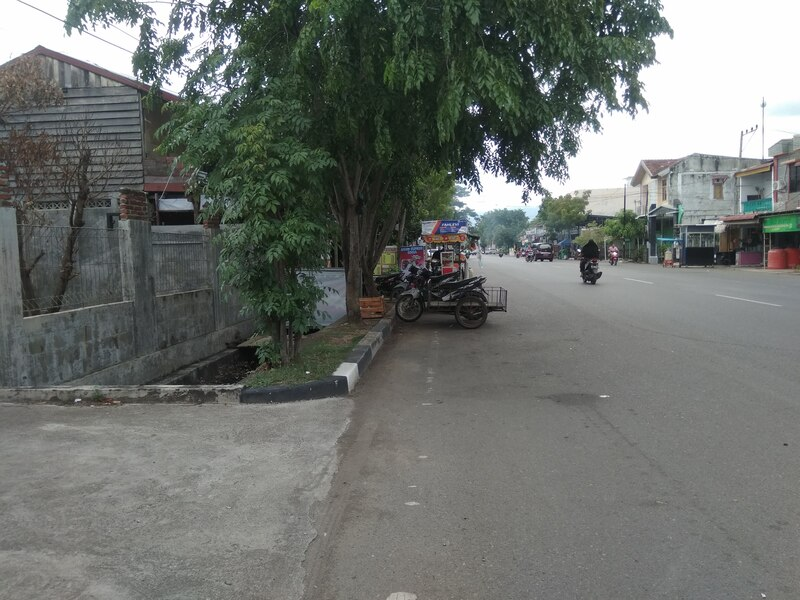becak barang: (394, 265, 513, 333)
